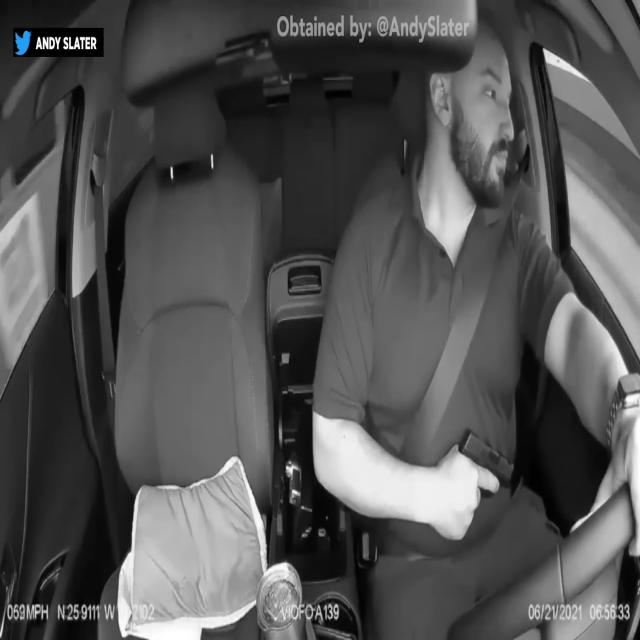senjata_api: (459, 429, 515, 489)
